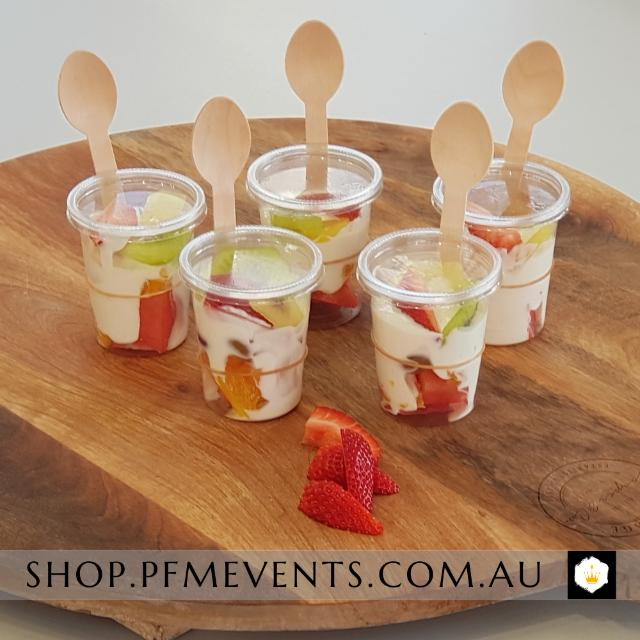yogurt: (63, 155, 211, 357), (355, 226, 501, 424), (433, 130, 563, 350), (182, 226, 322, 422), (244, 136, 378, 328)
